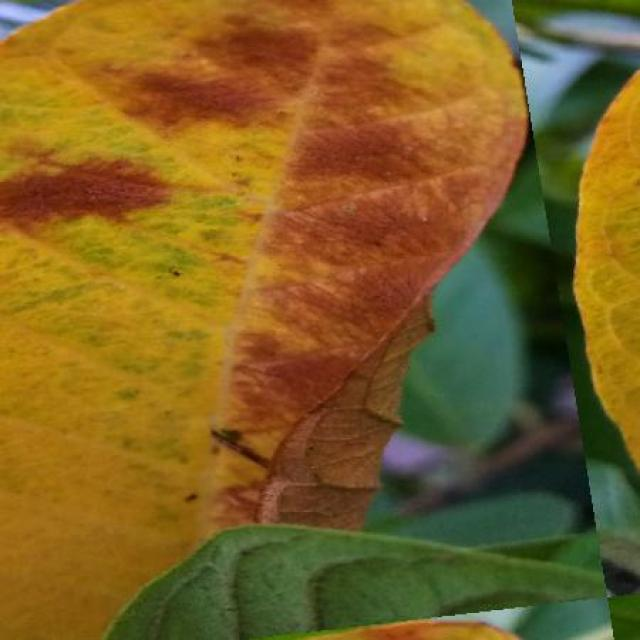Red Rust: (0, 1, 528, 459)
